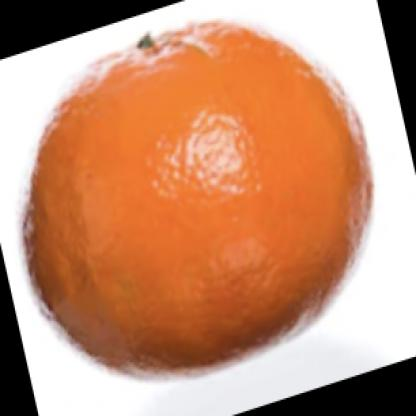orange: (19, 26, 376, 381)
